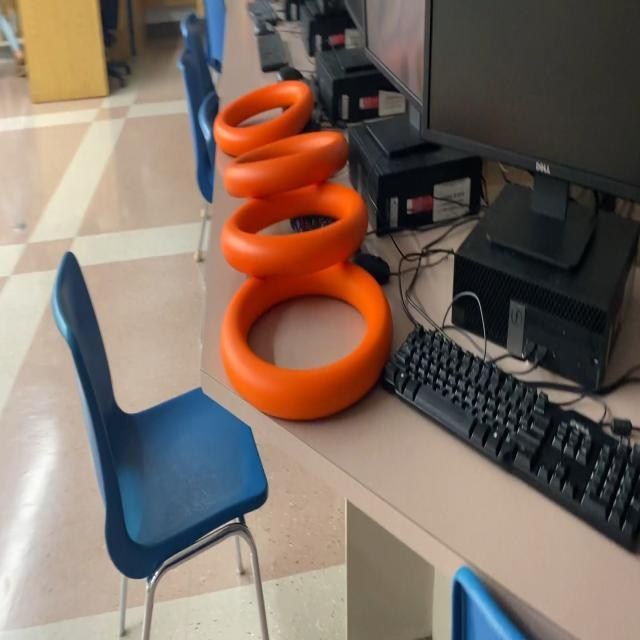note: (220, 257, 394, 425), (218, 178, 370, 276), (222, 128, 350, 197), (213, 77, 313, 158)
